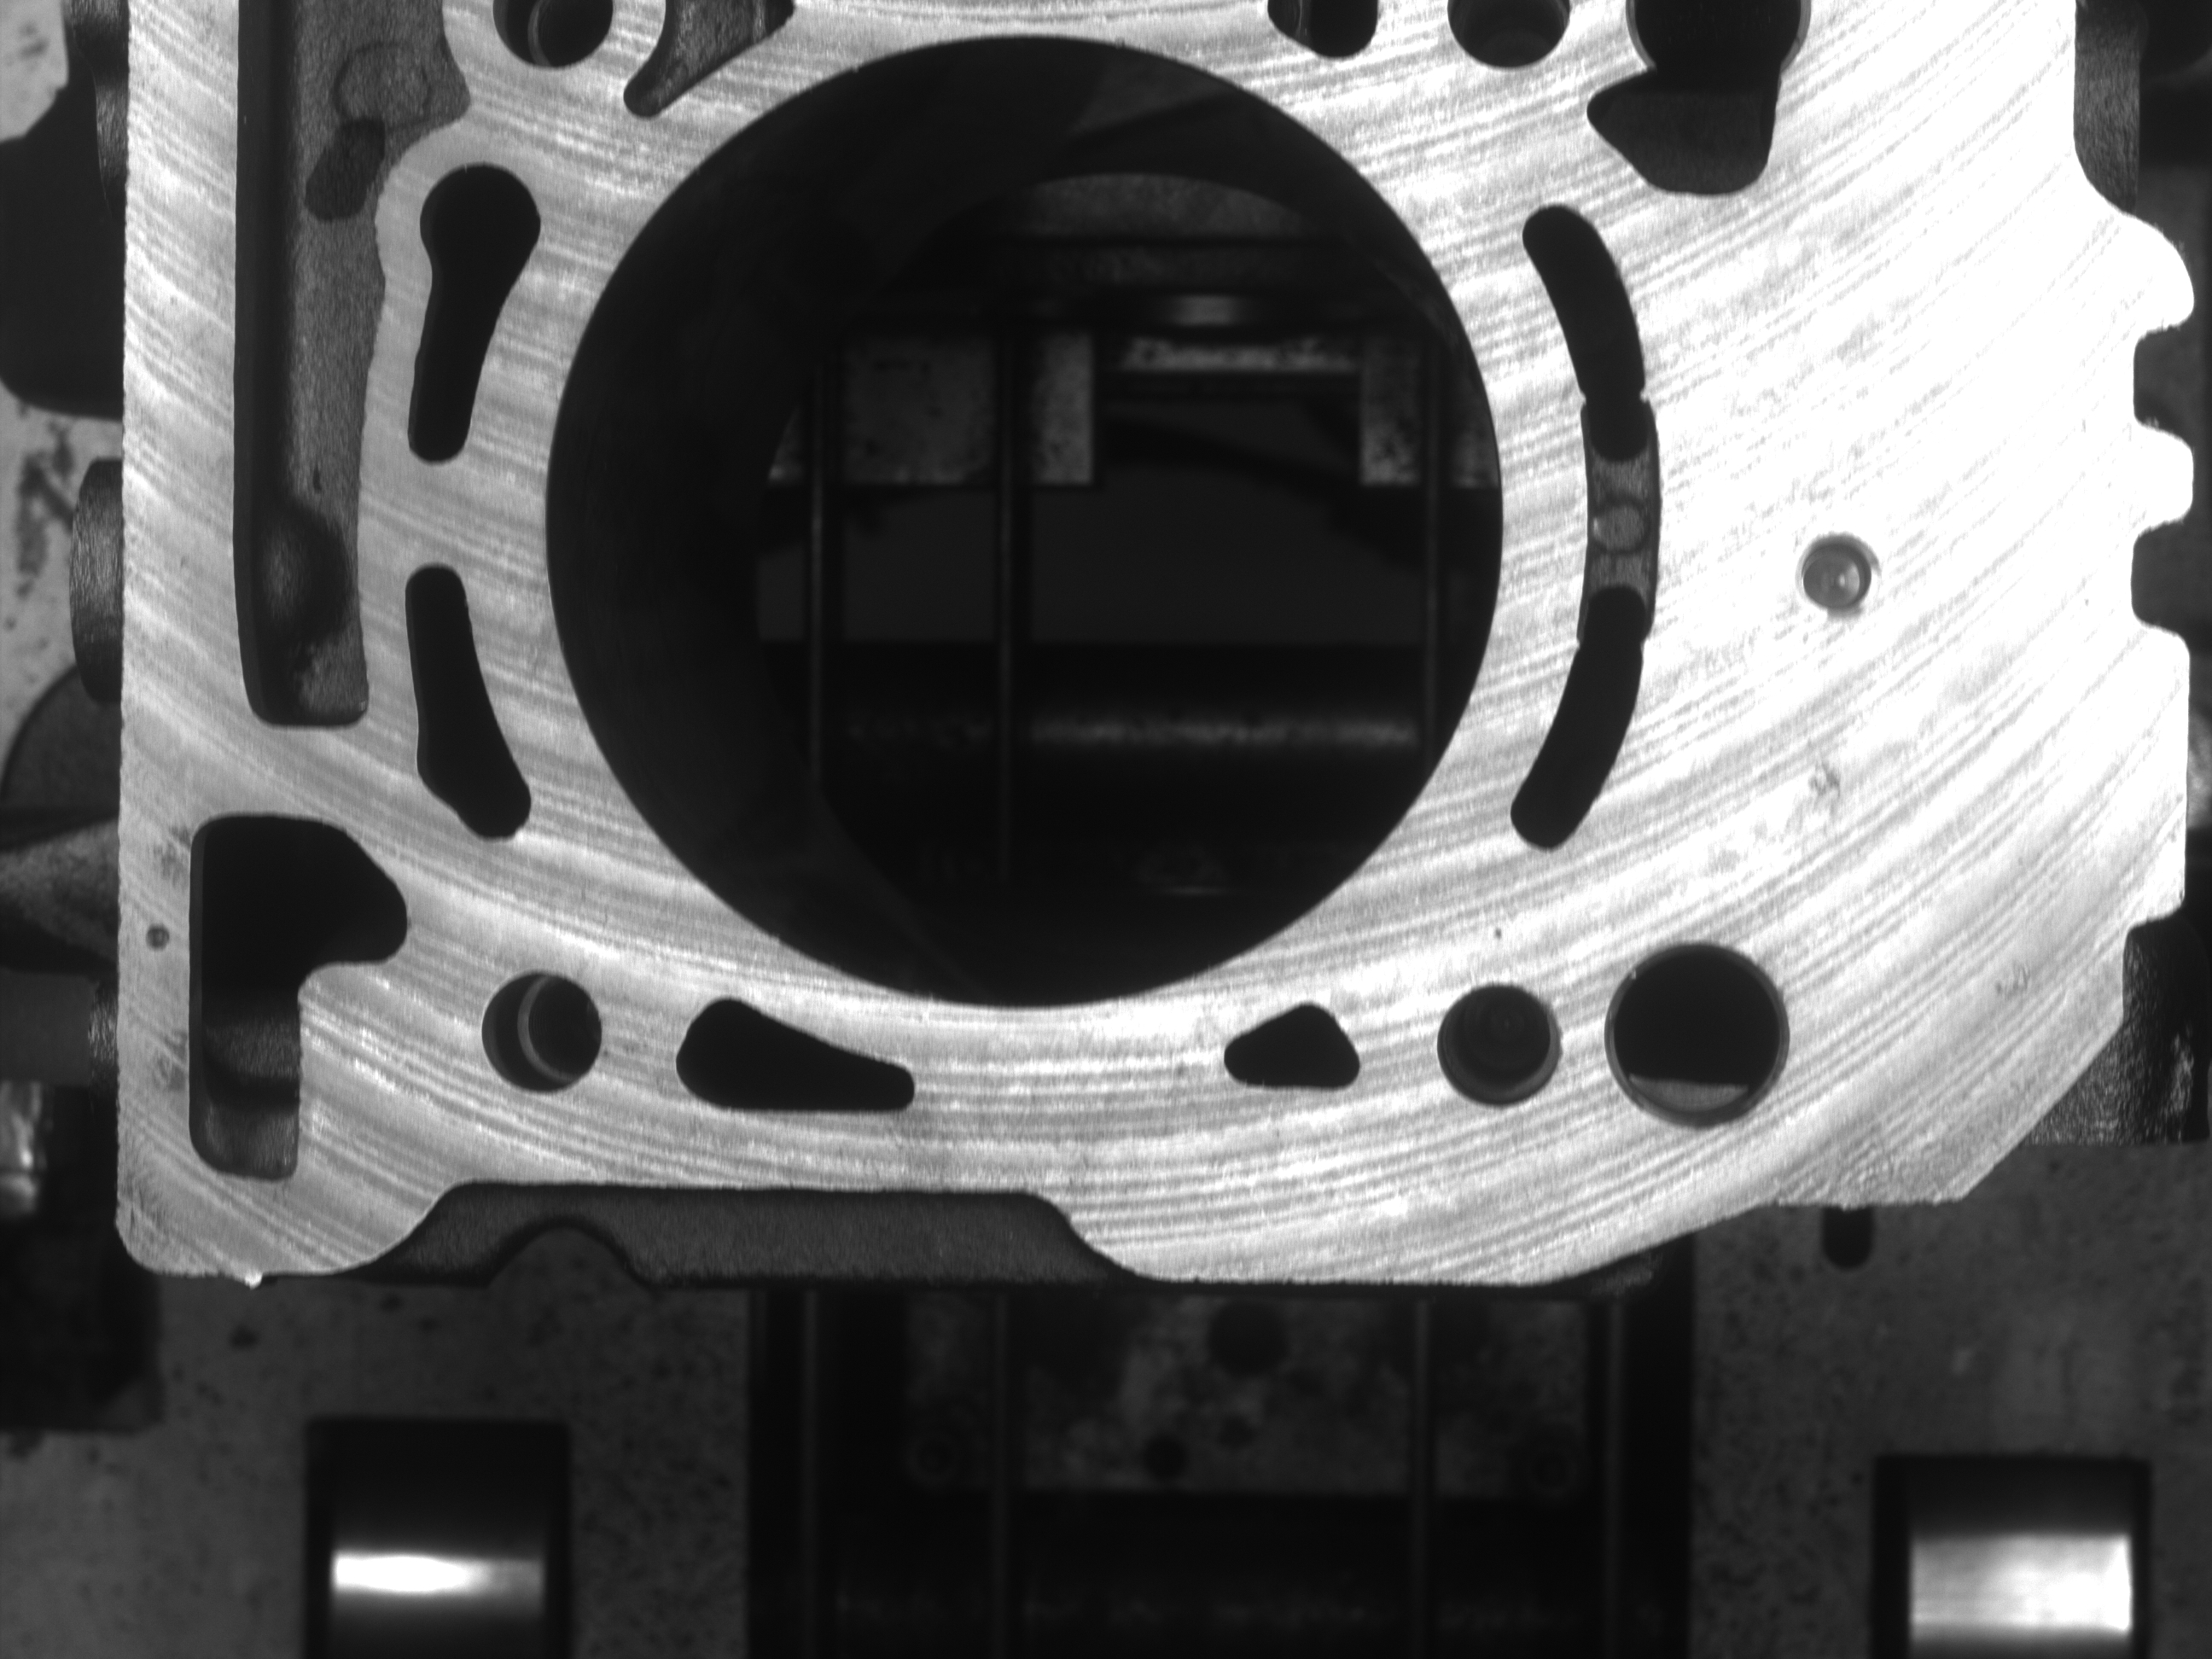crackle: (129, 901, 178, 976)
